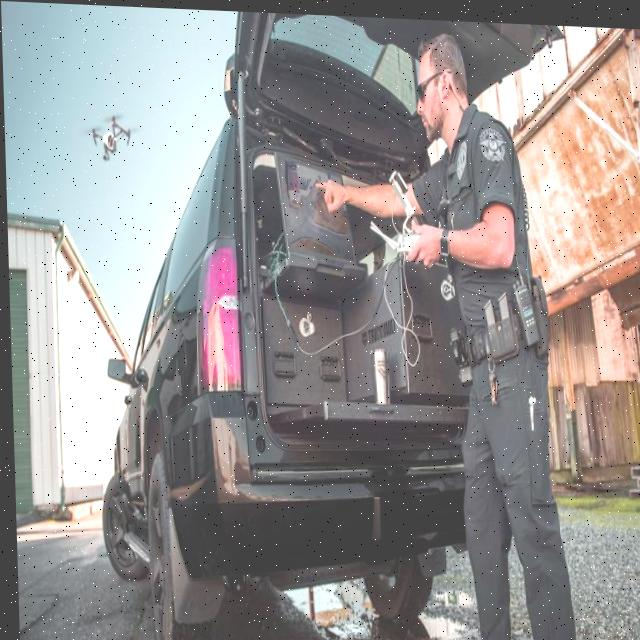drone: (77, 97, 139, 167)
